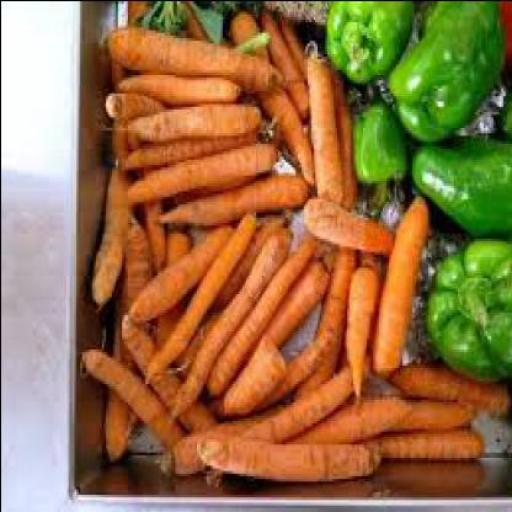biodegradable: (156, 354, 370, 467), (167, 227, 287, 412), (140, 209, 255, 377), (210, 230, 316, 390), (384, 2, 501, 136), (227, 5, 311, 182), (98, 21, 280, 92), (424, 234, 510, 378), (79, 345, 188, 444), (100, 214, 145, 451), (368, 190, 425, 375), (123, 222, 229, 320), (124, 137, 274, 204), (411, 134, 510, 233), (156, 169, 308, 225), (291, 243, 348, 391), (194, 431, 376, 475), (319, 1, 412, 80), (208, 213, 288, 301), (387, 356, 510, 412), (298, 190, 392, 254), (302, 48, 340, 203), (352, 92, 404, 201), (85, 158, 124, 299), (113, 63, 237, 106), (256, 6, 304, 116), (289, 394, 403, 440), (263, 259, 327, 340), (219, 333, 281, 414), (342, 256, 378, 394), (127, 100, 257, 135), (327, 66, 354, 204), (156, 222, 182, 360), (374, 424, 480, 456), (117, 137, 257, 161), (137, 161, 166, 272), (124, 2, 153, 108), (392, 393, 472, 430), (100, 84, 164, 119), (277, 15, 304, 82), (167, 2, 208, 40), (140, 0, 182, 32)
